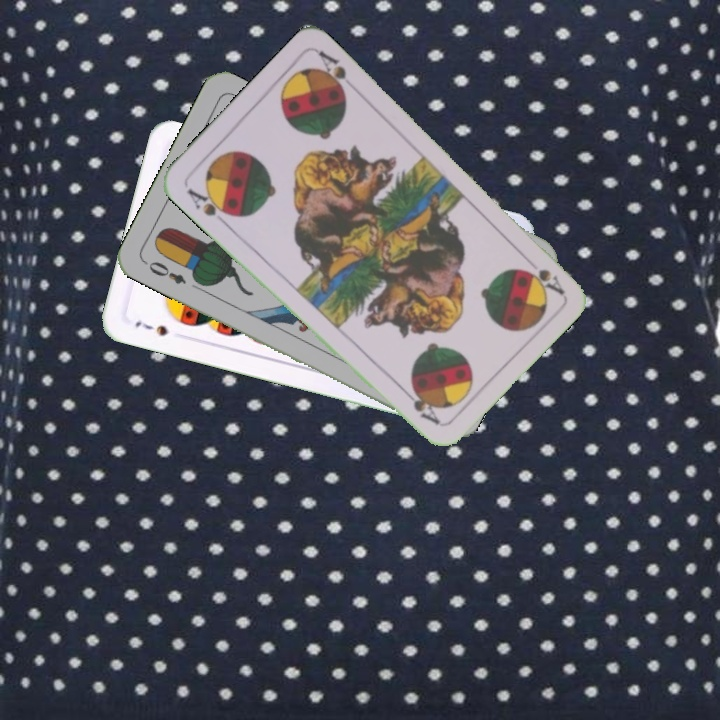EO: (145, 257, 189, 287)
S7: (131, 317, 171, 339)
SA: (183, 184, 236, 228), (519, 251, 567, 297)
